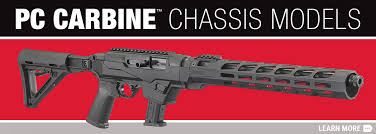gun: (15, 47, 365, 129)
